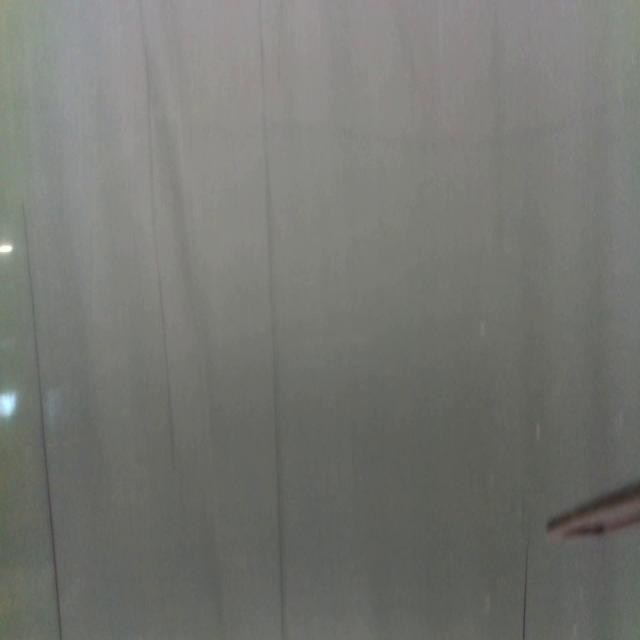color bleeding: (0, 86, 640, 158)
crease: (139, 0, 179, 485), (19, 200, 62, 640), (258, 0, 286, 640), (521, 540, 530, 640)
